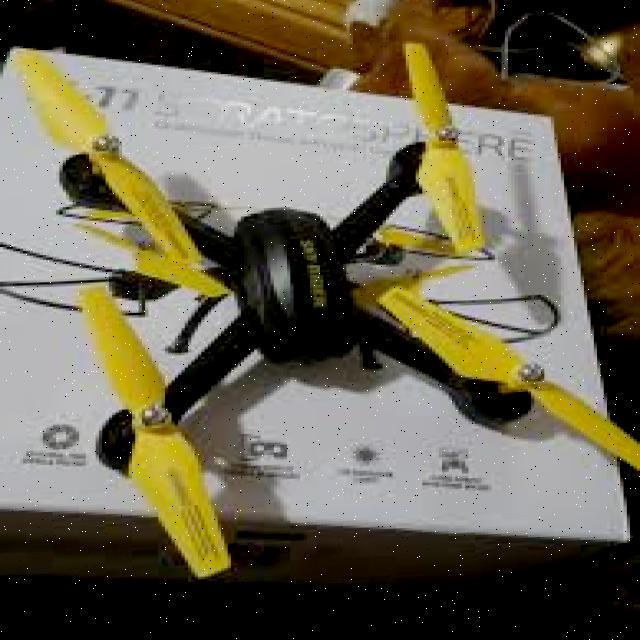drone: (0, 22, 640, 560)
